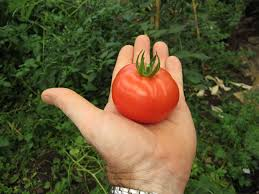tomato: (111, 64, 180, 123)
